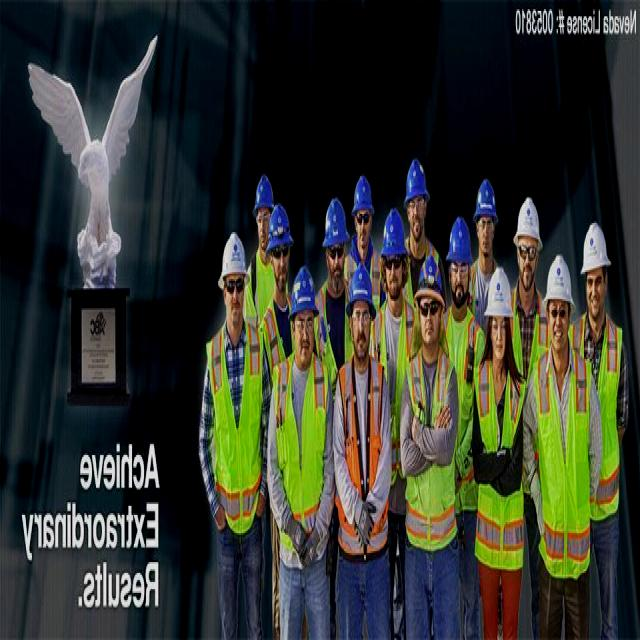face_nomask: (221, 270, 245, 337), (548, 299, 572, 359), (417, 292, 440, 352), (586, 265, 605, 330), (516, 237, 536, 292), (326, 241, 345, 297), (349, 308, 370, 357), (294, 310, 314, 359), (450, 261, 469, 312), (408, 192, 426, 245), (490, 316, 508, 366), (356, 205, 374, 254), (386, 256, 402, 310), (256, 203, 274, 250), (272, 247, 290, 290), (478, 216, 493, 257)
glasses: (517, 240, 538, 266), (548, 301, 569, 326), (326, 237, 346, 263), (419, 296, 442, 318), (384, 249, 403, 275), (223, 274, 246, 294), (295, 314, 314, 336), (354, 208, 372, 230), (254, 208, 272, 230), (272, 242, 290, 260)
hand_glove: (350, 488, 376, 551), (304, 511, 320, 575), (289, 508, 306, 566)
hand_noglove: (436, 397, 452, 437)
head_helmet: (582, 216, 609, 270), (220, 230, 247, 274), (488, 268, 512, 316), (548, 256, 574, 299), (403, 164, 427, 204), (269, 204, 291, 247), (292, 265, 315, 306), (517, 200, 540, 238), (472, 183, 497, 216), (448, 225, 469, 263), (327, 200, 346, 240), (351, 265, 372, 301), (421, 257, 442, 292), (356, 176, 375, 210), (256, 176, 274, 205), (388, 218, 403, 252)
person: (206, 248, 257, 640), (280, 272, 324, 640), (341, 279, 384, 640), (408, 274, 448, 634), (481, 280, 518, 639), (541, 255, 581, 568), (584, 212, 624, 513), (511, 192, 546, 370), (249, 172, 278, 303), (385, 216, 406, 388), (324, 190, 347, 343), (405, 158, 432, 283), (449, 223, 474, 344), (269, 199, 294, 312), (472, 185, 498, 277), (352, 165, 378, 247)
vest: (212, 326, 258, 509), (546, 359, 585, 569), (282, 363, 325, 549), (478, 373, 520, 555), (410, 361, 451, 538), (340, 358, 382, 530), (447, 318, 476, 492), (597, 334, 620, 502), (390, 310, 413, 363)
